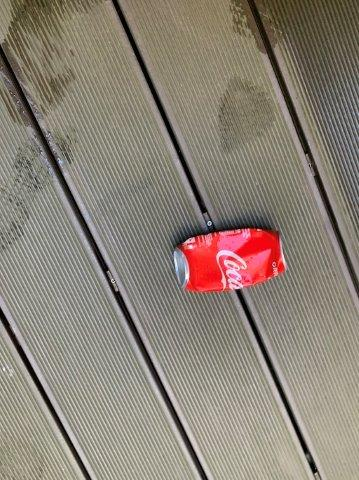kaleng: (176, 229, 286, 290)
